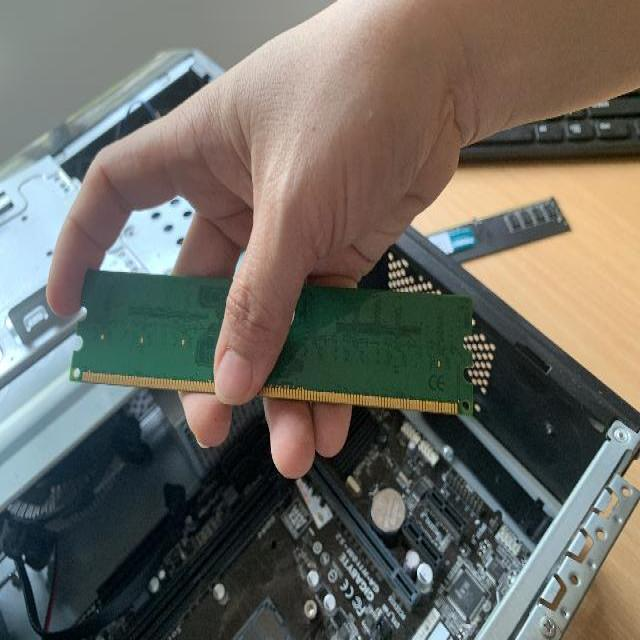Mainboard: (111, 429, 541, 639)
RAM: (68, 262, 474, 423), (417, 188, 577, 263)
